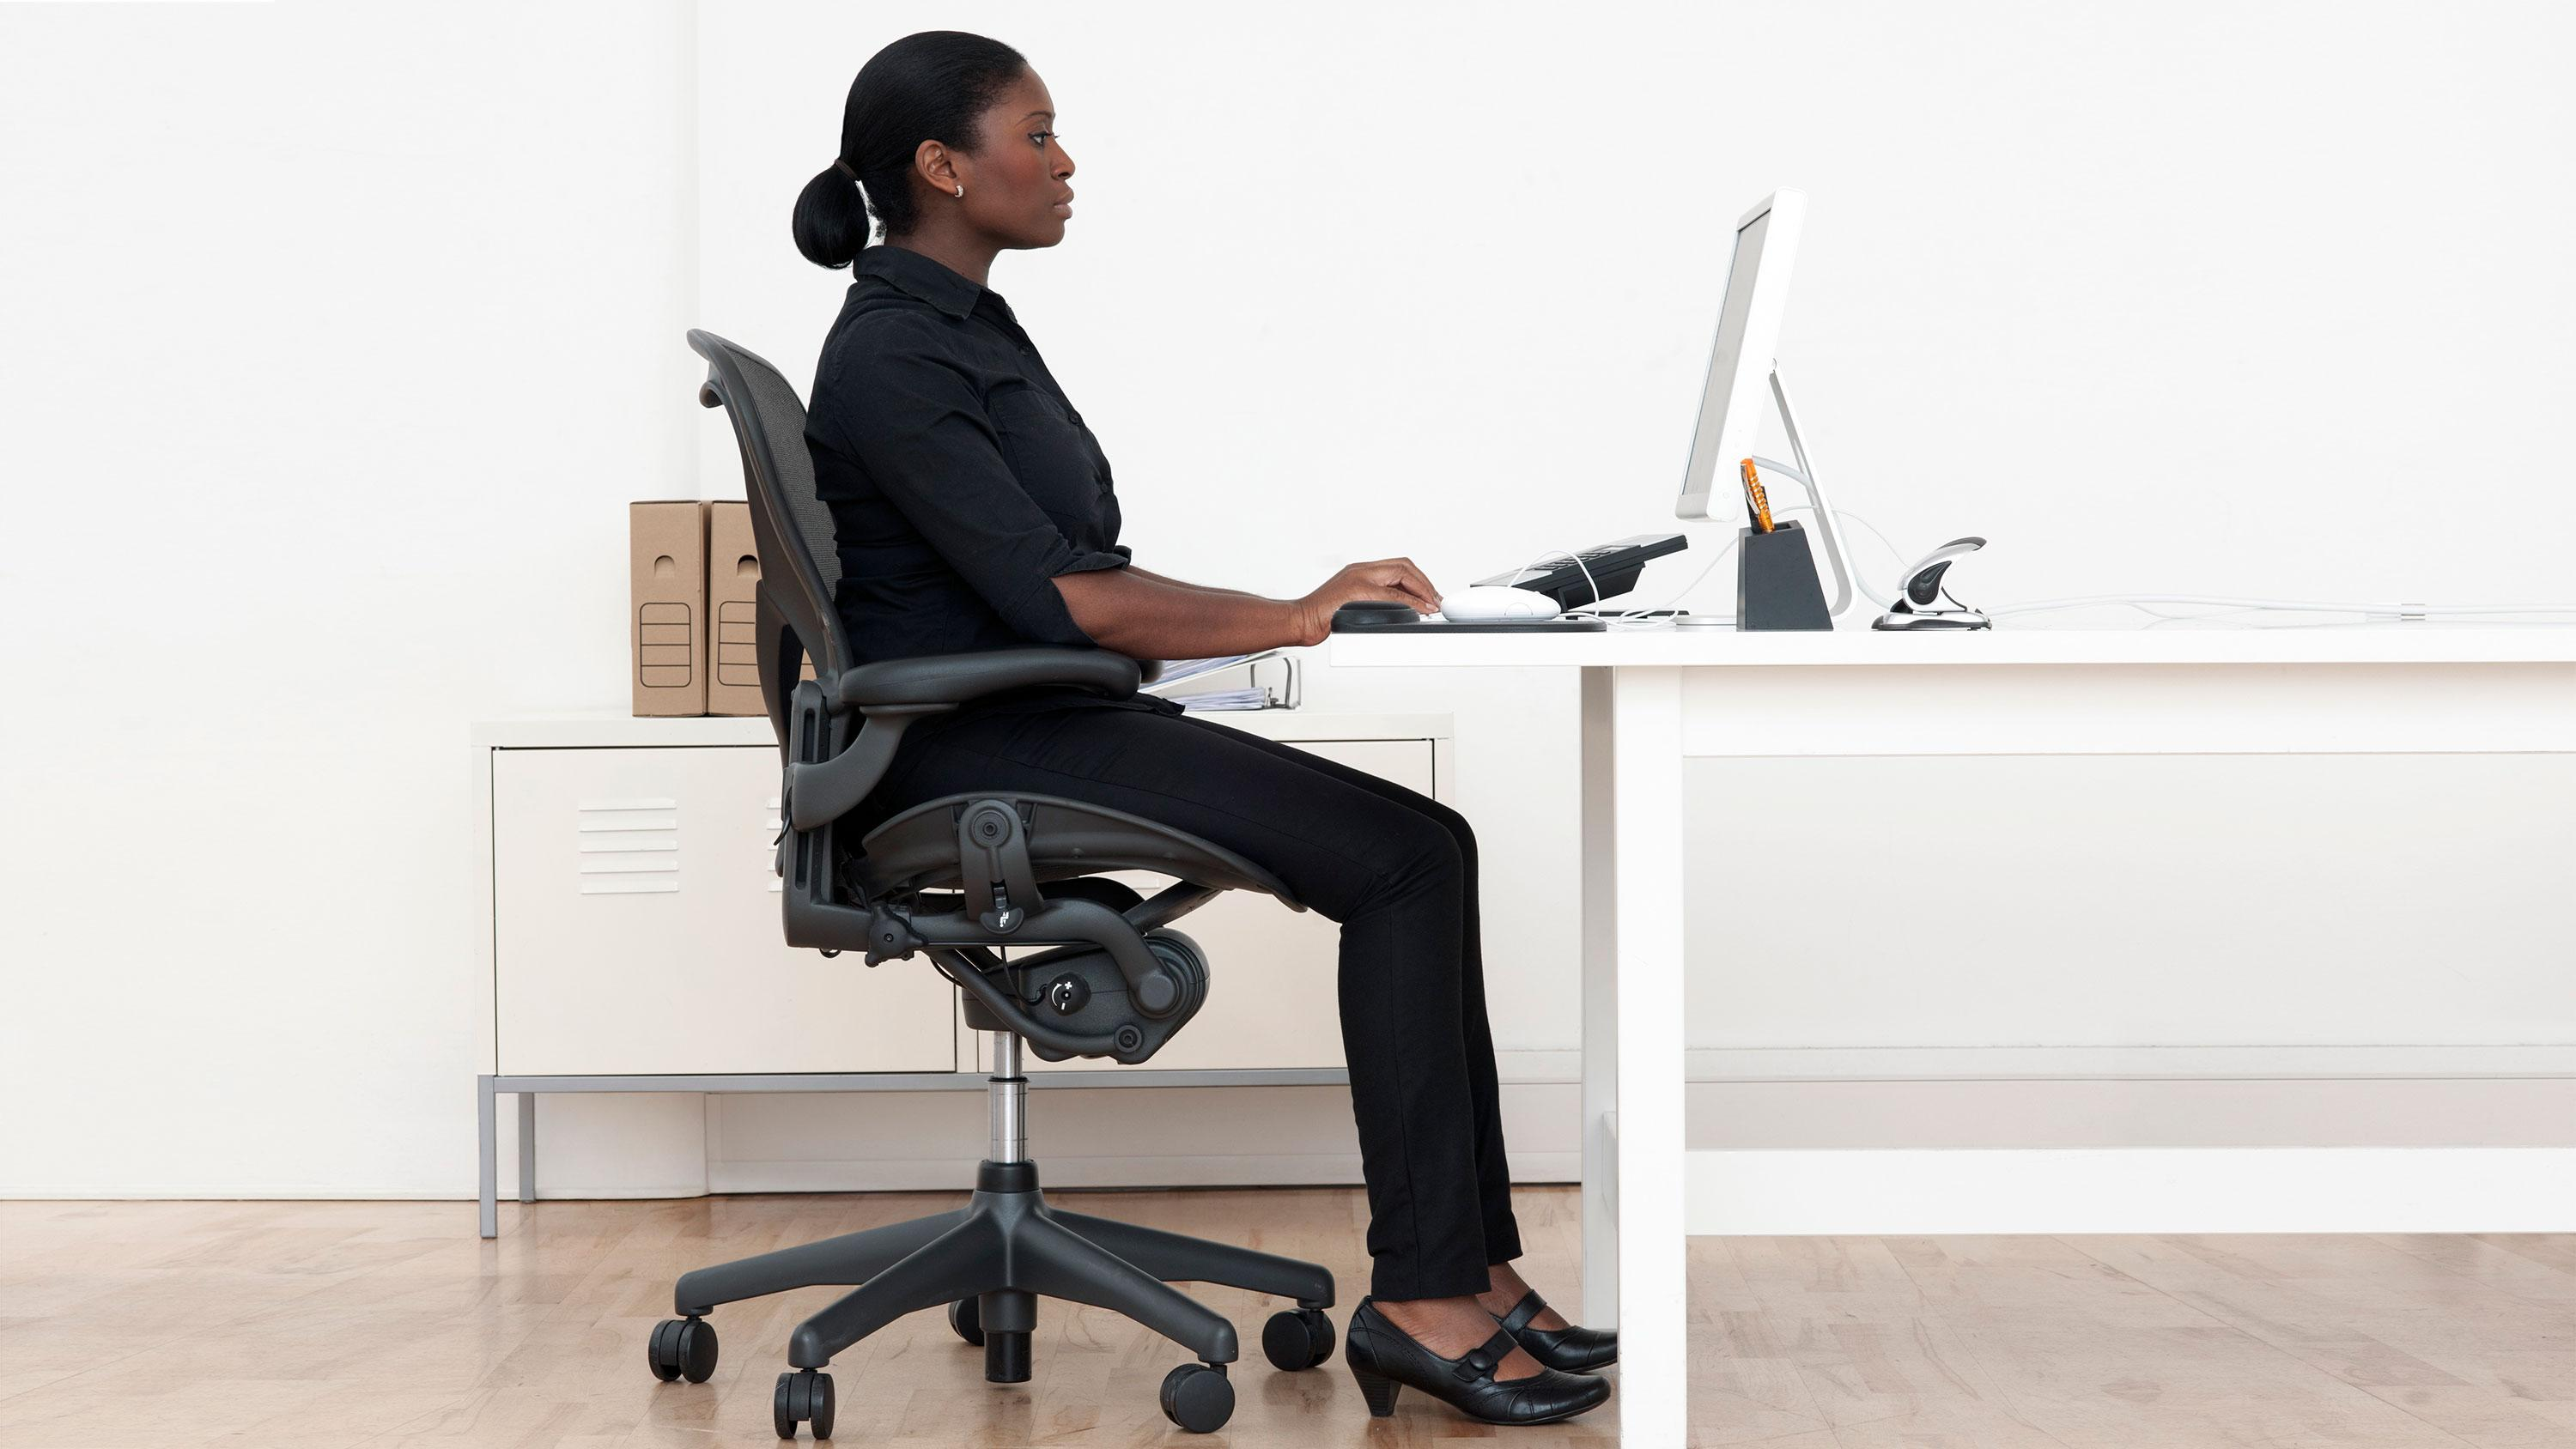Good Sitting Posture: (770, 26, 1623, 1430)
